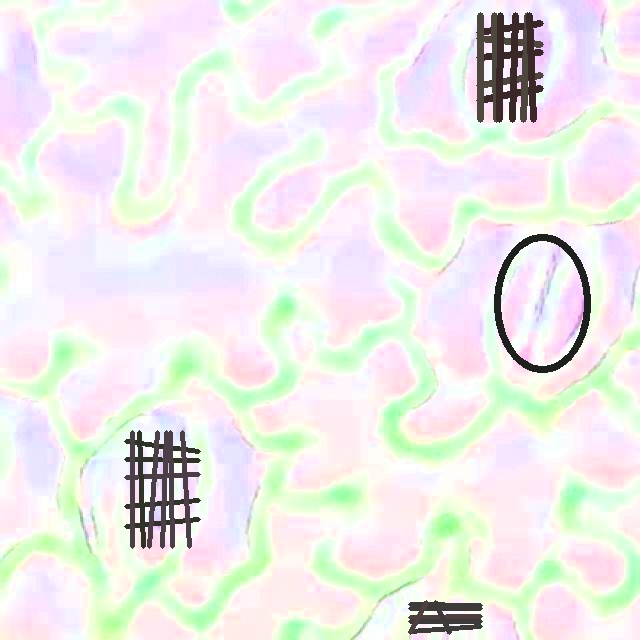open: (493, 233, 591, 373), (125, 430, 199, 548), (476, 12, 543, 122), (408, 600, 482, 634)
